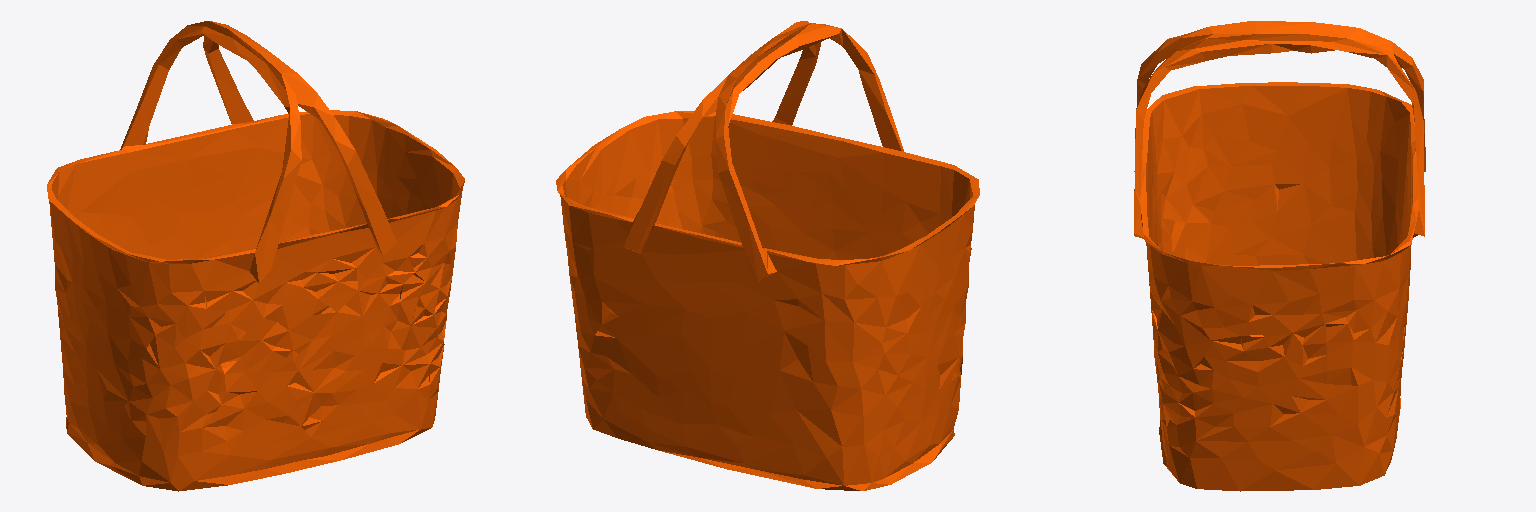
robot.urdf — backet_functional:
<?xml version="1.0" ?>
<robot name="backet_functional">
   <material name="obj_color">
      <color rgba="1.0 0.423529411765 0.0392156862745 1.0"/>
   </material>
   <link name="top">
      <inertial>
         <origin rpy="0.009679315096904227 0.01060594740663259 0.01302706214635054" xyz="0.004382183986051727 0.01275201891702678 -0.03841532857472929"/>
         <mass value="1.122850639425245"/>
         <inertia ixx="0.009971286397445902" ixy="-3.603026039318627e-05" ixz="0.0004319815009589436" iyy="0.01302162679375249" iyz="-0.0001100619808124587" izz="0.01031941145868896"/>
      </inertial>
      <visual>
         <origin rpy="0 0 0" xyz="0 0 0"/>
         <geometry>
            <mesh filename="top_watertight_tiny.stl" scale="1 1 1"/>
         </geometry>
         <material name="obj_color"/>
      </visual>
      <collision>
         <origin rpy="0 0 0" xyz="0 0 0"/>
         <geometry>
            <mesh filename="top_watertight_tiny.obj" scale="1 1 1"/>
         </geometry>
      </collision>
   </link>
   <link name="bottom">
      <inertial>
         <origin rpy="1.633333333199431e-08 1.633333333199431e-08 1.633333333362855e-08" xyz="0.3464080000000008 0.3464080000000008 0.3464080000000008"/>
         <mass value="0.0009800000000000017"/>
         <inertia ixx="1.633333333253906e-08" ixy="5.447480642029219e-19" ixz="5.447480642029219e-19" iyy="1.633333333253906e-08" iyz="5.447480642029219e-19" izz="1.633333333253906e-08"/>
      </inertial>
      <visual>
         <origin rpy="0 0 0" xyz="0 0 0"/>
         <geometry>
            <mesh filename="bottom_watertight_tiny.stl" scale="1 1 1"/>
         </geometry>
         <material name="obj_color"/>
      </visual>
   </link>
   <joint name="rotation" type="revolute">
      <origin xyz="0 0 0"/>
      <axis xyz="0 0 -1"/>
      <parent link="bottom"/>
      <child link="top"/>
      <dynamics damping="1.0" friction="1.0"/>
      <limit effort="0.1" velocity="0.1" lower="0" upper="0.001"/>
   </joint>
</robot>

--- What the picture shows (computed from the rendered views, not written in the file) ---
Views: 3 orthographic renders of the robot side by side, from view 1: azimuth 30°, elevation 25°; view 2: azimuth 150°, elevation 25°; view 3: azimuth 270°, elevation 25°.
Robot: backet_functional — 2 links, 1 joints (1 revolute); root link bottom; default pose: all joints at 0.
Visible links, largest first — view 1: top; view 2: top; view 3: top.
Link boxes in pixels (<box>): top: <box>47,21,464,491</box>; top: <box>556,21,979,490</box>; top: <box>1134,21,1425,491</box>.
Size in the robot's own frame: 0.2742 by 0.1911 by 0.2841 metres.
Meshes: 2 distinct files referenced, 1 mesh visuals loaded (1 binary STL); not drawn: 1 (reference not matched to a file when rendering).
